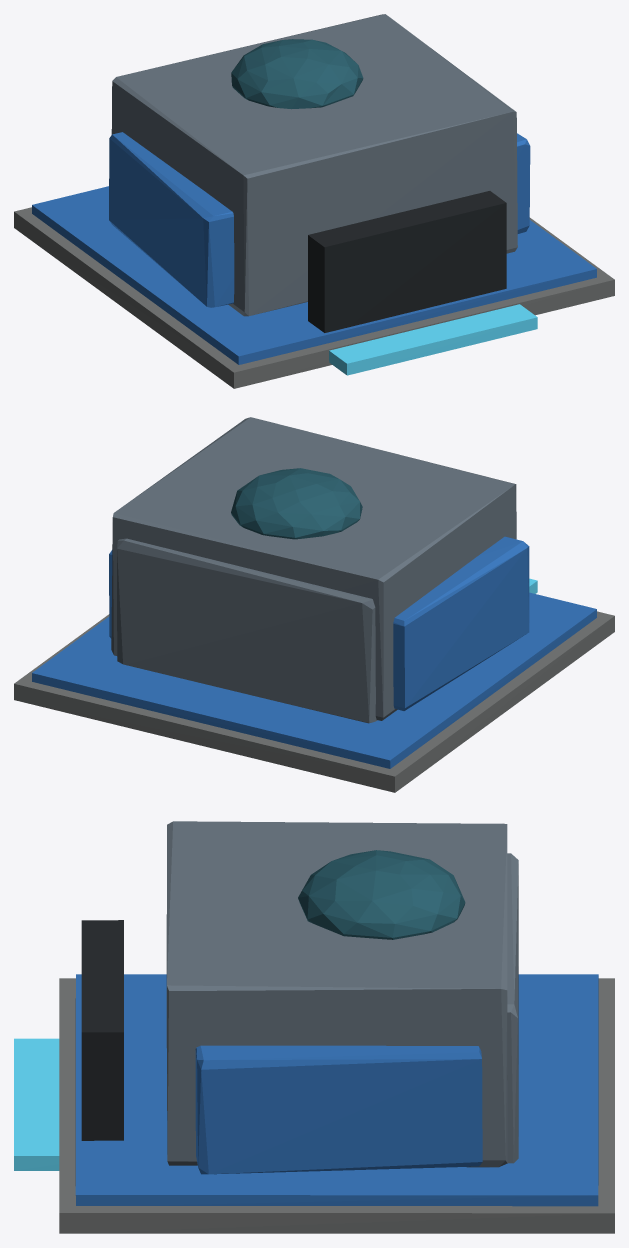
The model's file is SM_Alliance_AL_WarFactory_LOD2.fbx.
The picture shows the model from 3 angles, top to bottom: view 1: azimuth 30°, elevation 25°; view 2: azimuth 150°, elevation 25°; view 3: azimuth 270°, elevation 25°; orthographic projection. The views are drawn at different scales.
Parts seen in each view (by area): view 1: LOD02_SM_Alliance_AL_WarFactory; view 2: LOD02_SM_Alliance_AL_WarFactory; view 3: LOD02_SM_Alliance_AL_WarFactory.
Boxes of the visible parts, <box> form: LOD02_SM_Alliance_AL_WarFactory: <box>14,14,614,388</box>; LOD02_SM_Alliance_AL_WarFactory: <box>14,417,614,792</box>; LOD02_SM_Alliance_AL_WarFactory: <box>14,821,614,1233</box>.
Size of the model in its own units: 797 by 862 by 398.
